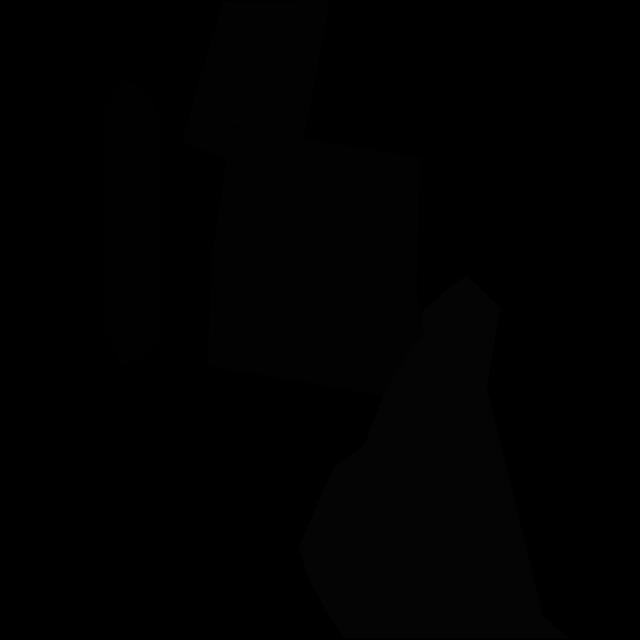cardboard: (207, 127, 423, 396), (182, 1, 330, 161)
rigid_plastic: (102, 79, 162, 367)
soft_plastic: (298, 275, 569, 638)
